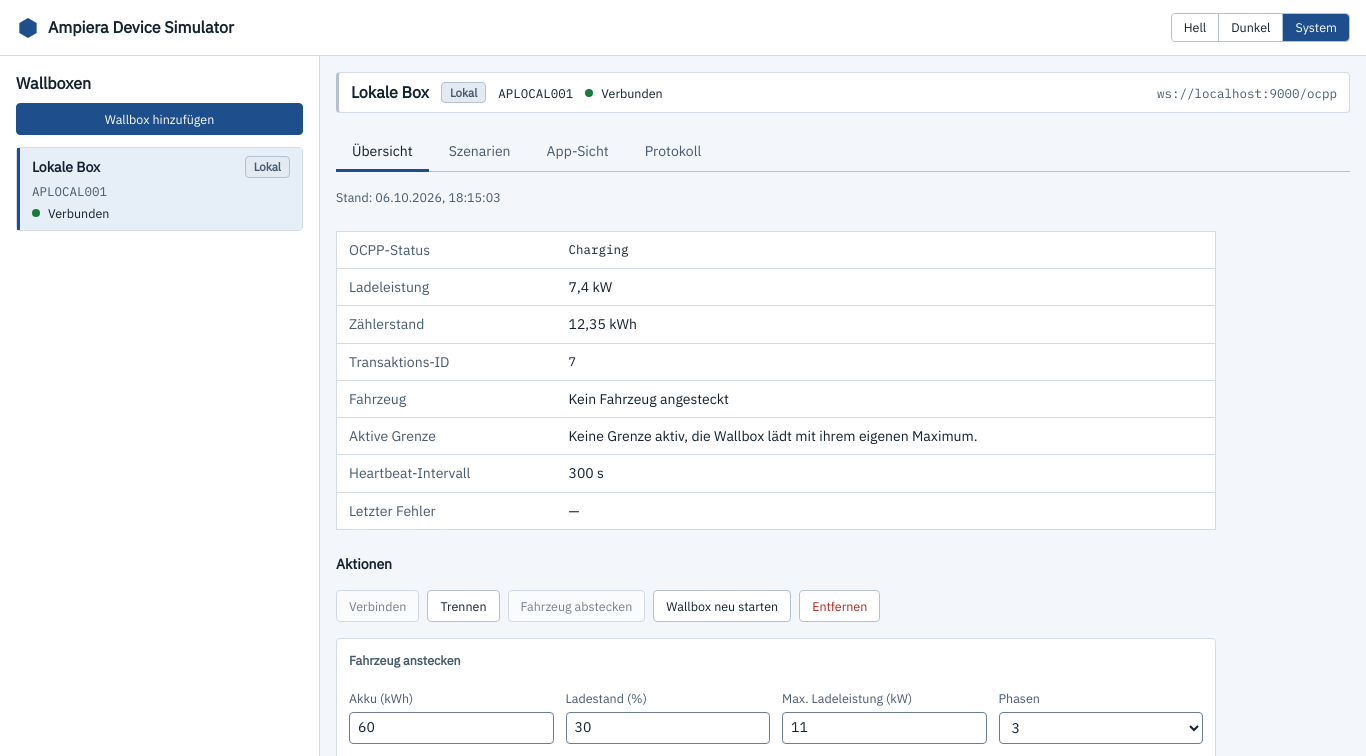
Test: App › scenarios › allows the same scenario on a local box
Click the tab "Szenarien". click: (480, 153)
box: 433,133 -> 527,172
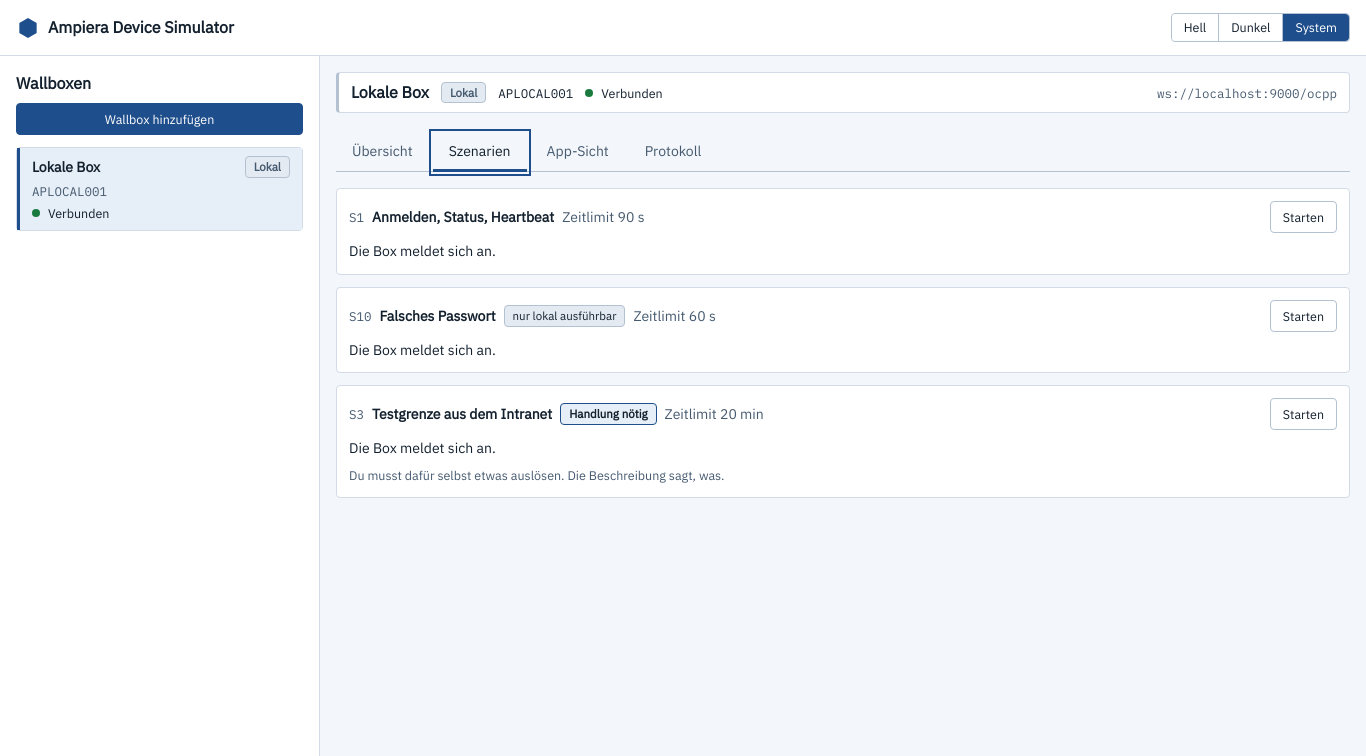
Now the button "Starten" in the row of "60 s" is enabled, box 1270,300 -> 1337,332
